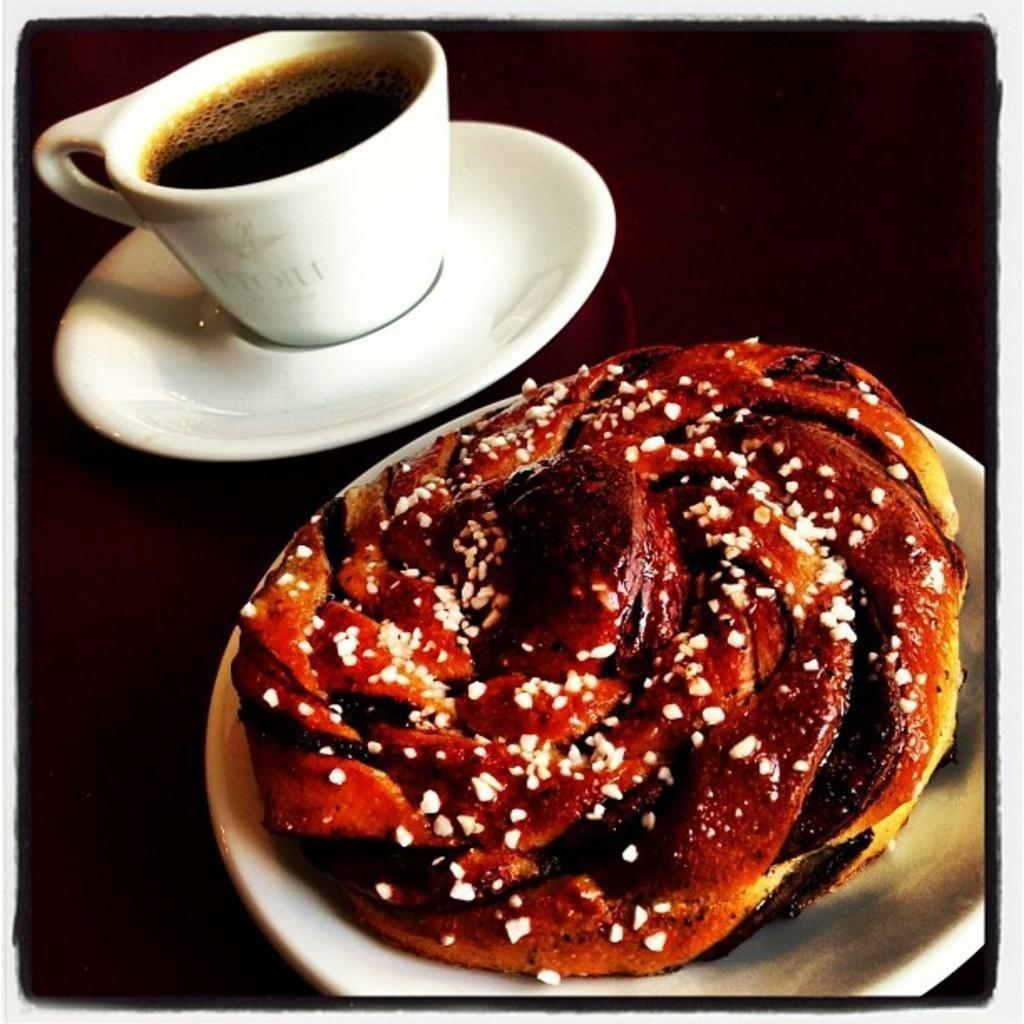cup-handle: (29, 20, 454, 350)
